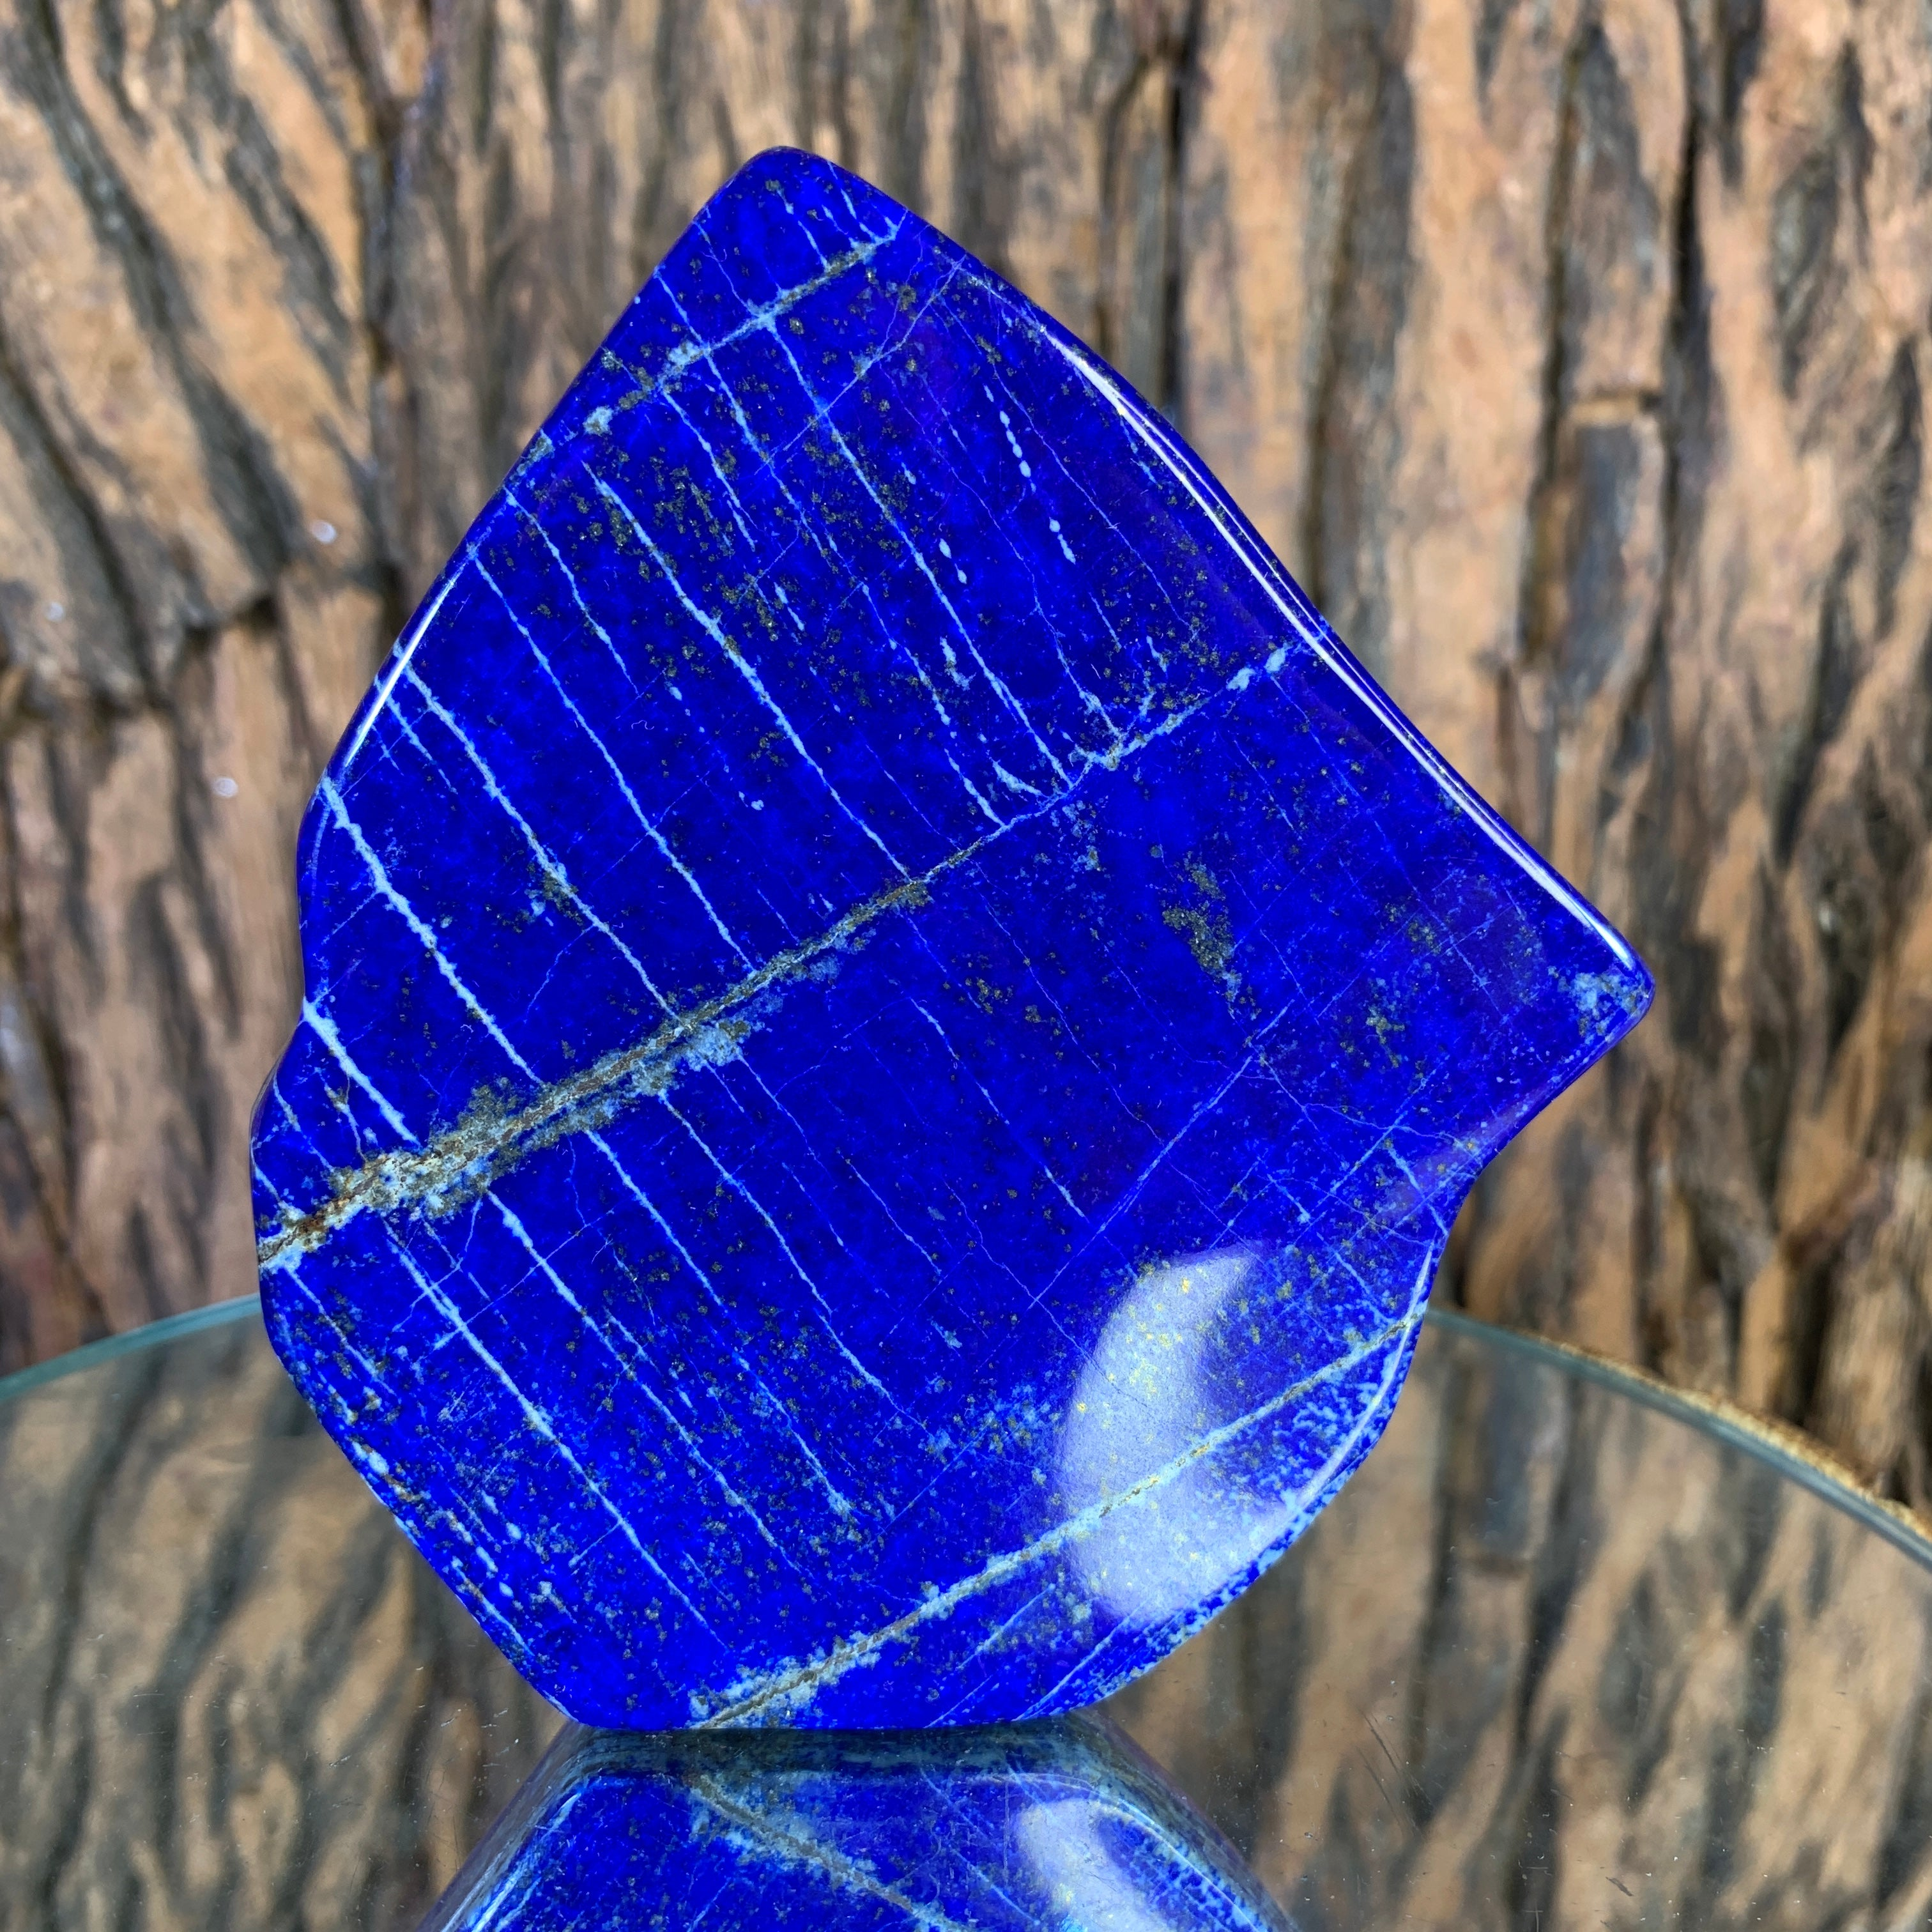Lapis_Lazuli: (237, 140, 1675, 1750)
